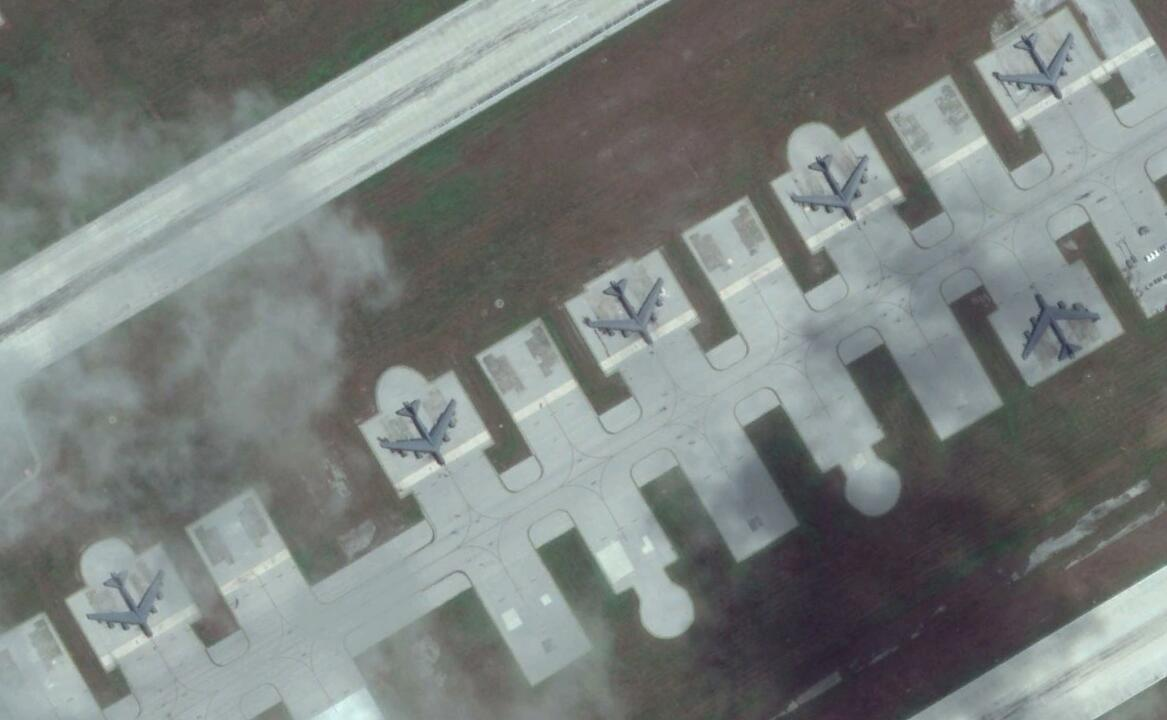A8: (85, 559, 170, 640), (583, 273, 672, 349), (1018, 290, 1102, 364), (792, 150, 876, 224), (997, 26, 1078, 101), (376, 395, 460, 463)
